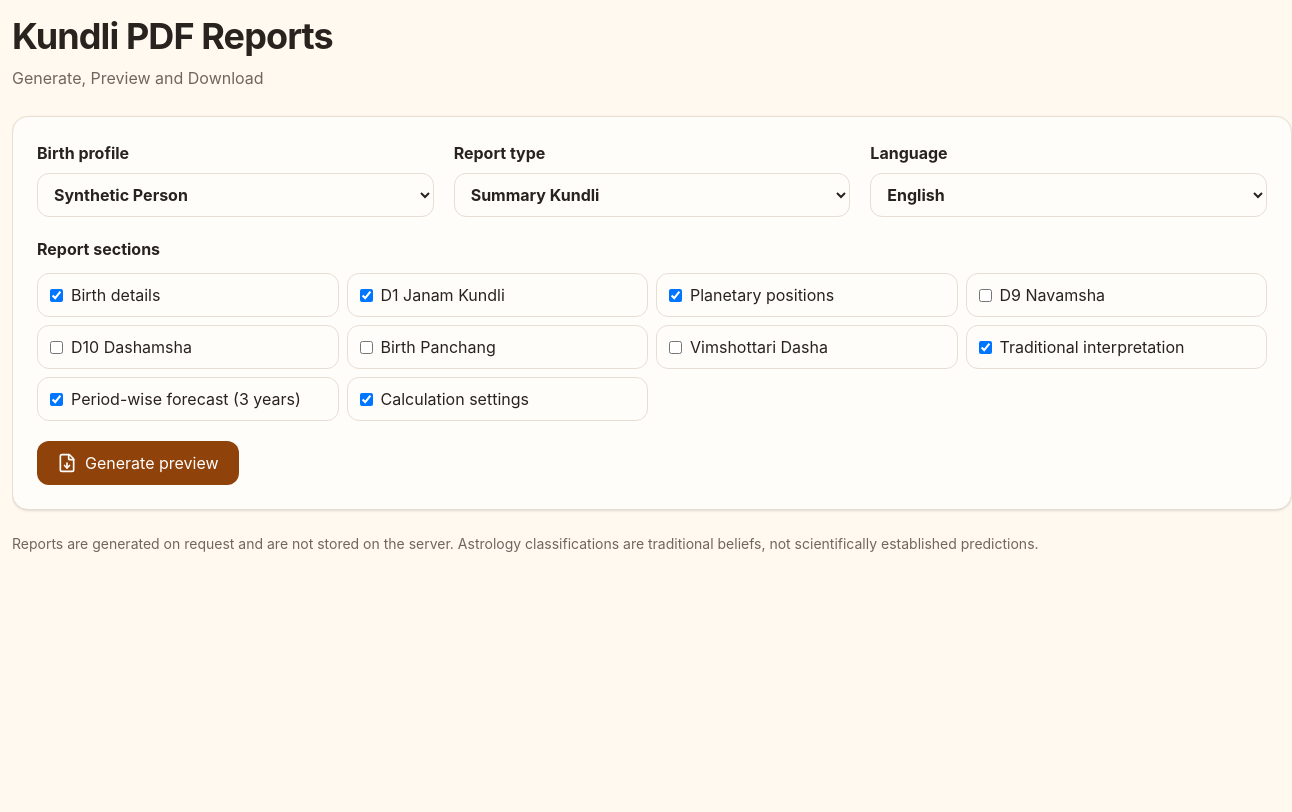
Test: ReportsPage › switches to the printable report after a 503 from the PDF renderer
What coordinates should you click on to do the following:
click the button "Generate preview"
I would click on:
 (138, 463)
Its box is [37,441,238,485].
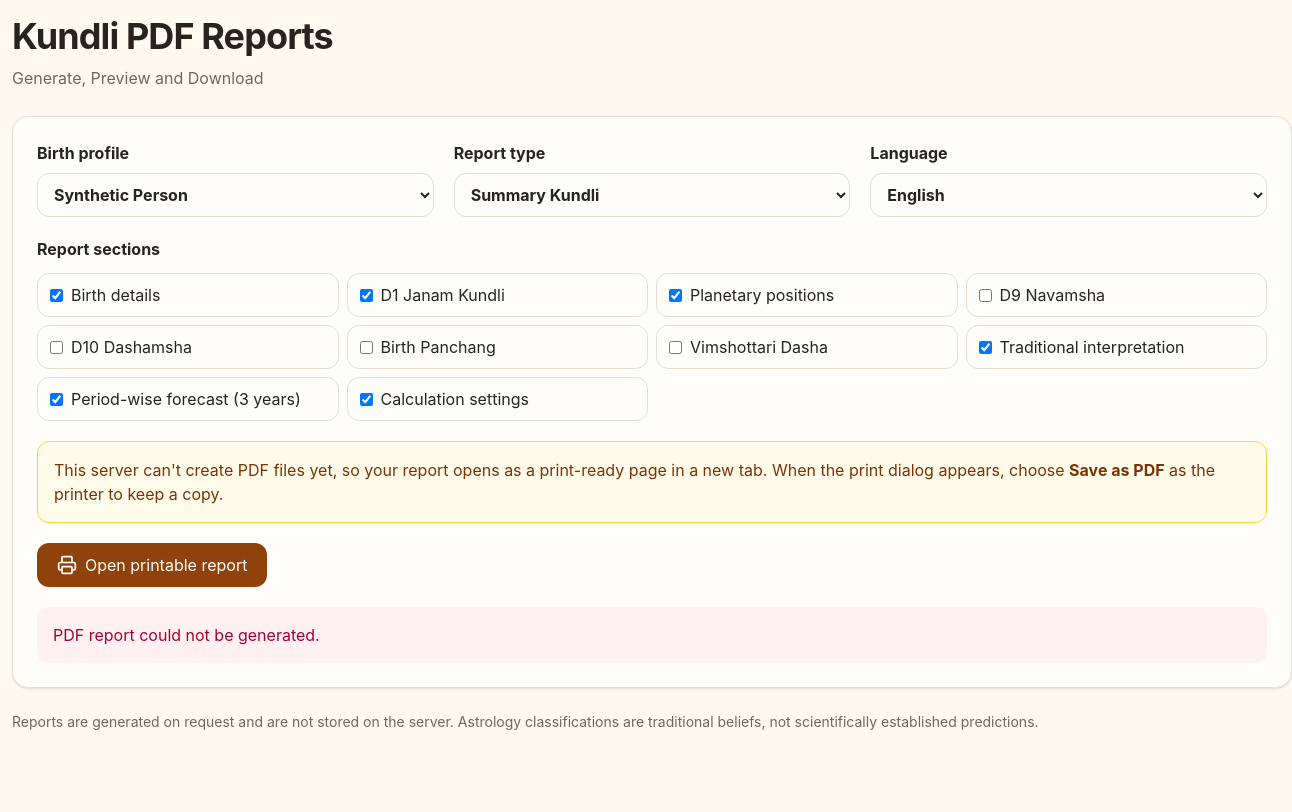
Now the button "Open printable report" is shown, box [37,543,267,587]
Now the text "can't create PDF files yet" is shown, box [54,460,1069,480]
